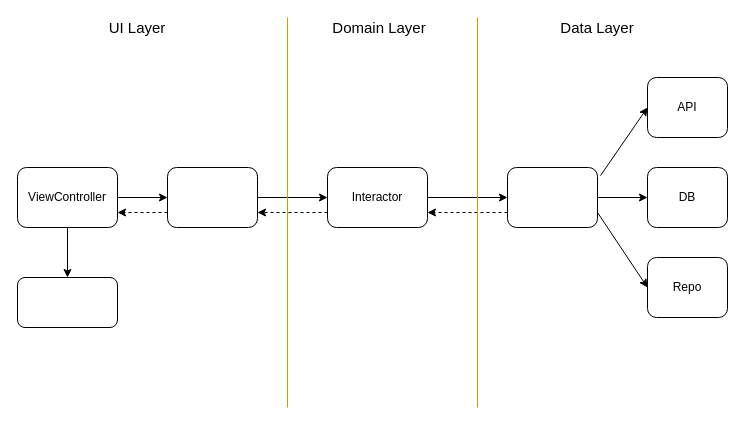
Image size: 745x426. Some labels were removed from this diagram. The shapes that lost their labels are listed below. From the top down, each one's box as (x1, y1, x2, y2) in pixels, then its label:
(166, 166, 258, 228): Presenter
(506, 166, 598, 228): Provider
(16, 276, 118, 328): Router
